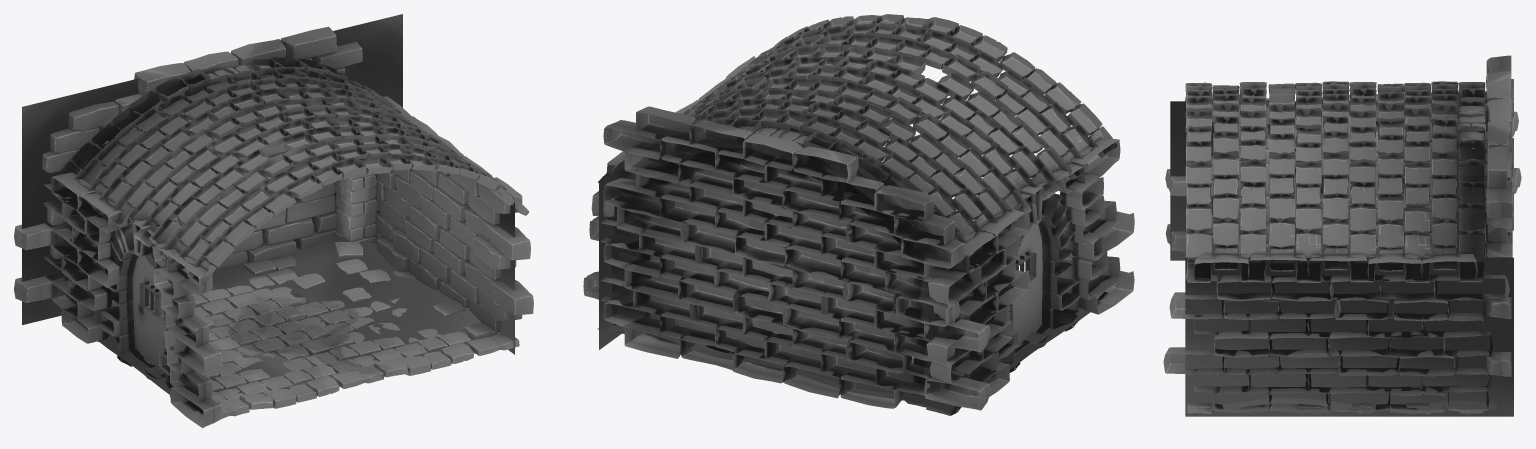
Rendered from bricks.glb.
3 renders of one model, left to right at view 1: azimuth 30°, elevation 25°; view 2: azimuth 150°, elevation 25°; view 3: azimuth 270°, elevation 25°, orthographic. The views are drawn at different scales.
Visible parts, largest first — view 1: Bricks, Bricks.001; view 2: Bricks, Bricks.001; view 3: Bricks, Bricks.001.
Part boxes in pixels (x1,y1,x2,y2): Bricks: (14, 26, 533, 428); Bricks.001: (22, 14, 514, 400); Bricks: (583, 14, 1134, 415); Bricks.001: (597, 171, 1090, 412); Bricks: (1163, 55, 1521, 413); Bricks.001: (1170, 101, 1513, 416).
Size of the model in its own units: 10.5 by 5.85 by 8.11.
Materials: 2 (2 with a texture image).
